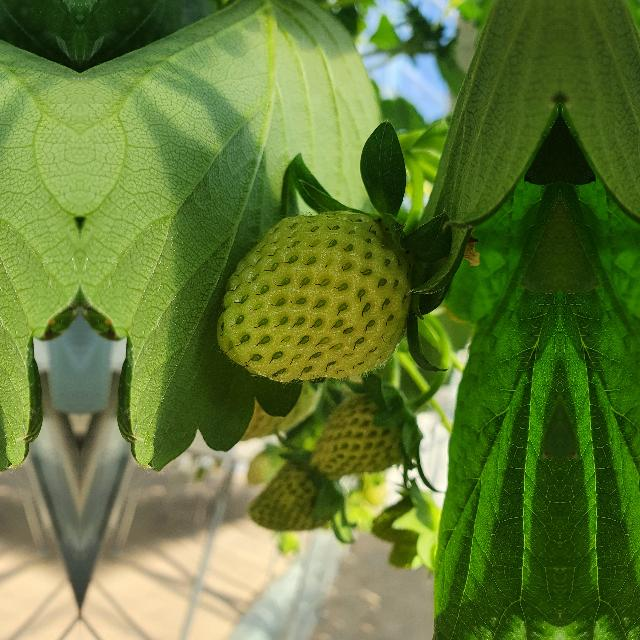Health_25: (216, 210, 412, 382), (319, 394, 419, 480), (242, 462, 344, 546)
